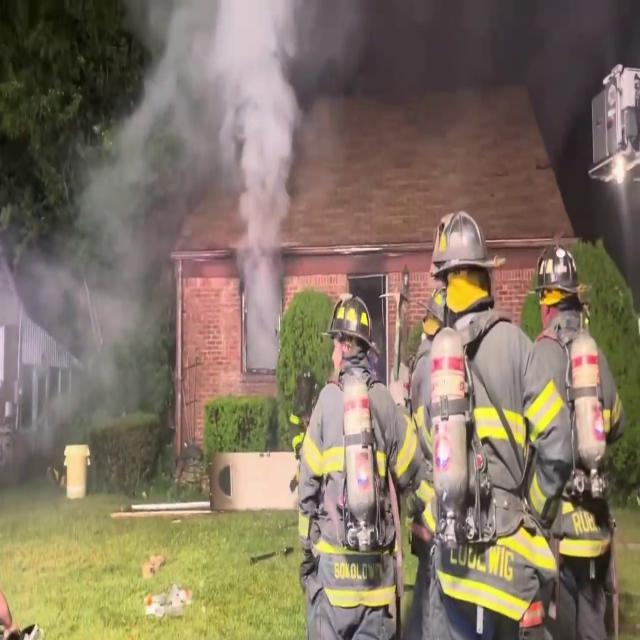Smoke: (22, 0, 334, 341)
